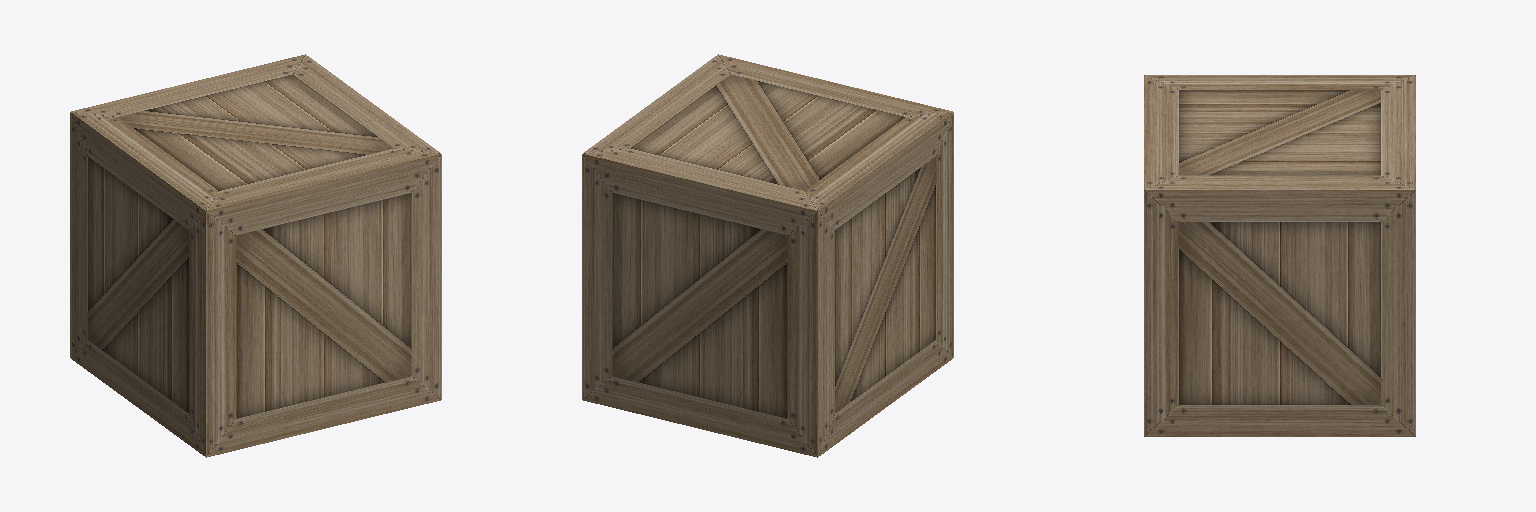
3 renders of one model, left to right at view 1: azimuth 30°, elevation 25°; view 2: azimuth 150°, elevation 25°; view 3: azimuth 270°, elevation 25°, orthographic.
Visible parts, largest first — view 1: Cube; view 2: Cube; view 3: Cube.
Boxes of the visible parts, x1,y1,x2,y2 form: Cube: [70, 54, 441, 457]; Cube: [582, 54, 953, 457]; Cube: [1144, 75, 1415, 436].
Size of the model in its own units: 2 by 2 by 2.
Materials: 1 (1 with a texture image).